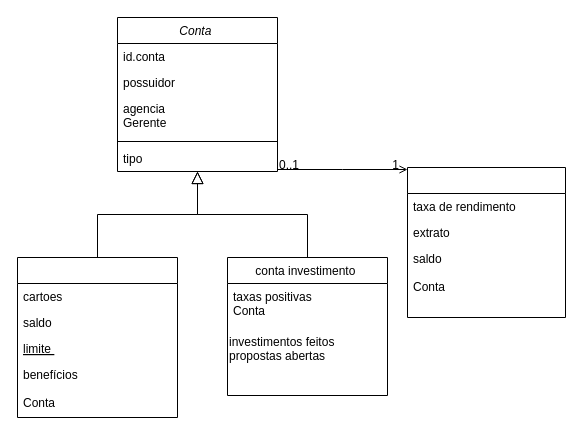
Image size: 583x438. Some labels were removed from this diagram. The box of each missing label's shape, as (x1, y1, x2, y2) in pixels:
Corrente: (16, 256, 178, 418)
Poupança: (406, 166, 566, 318)
